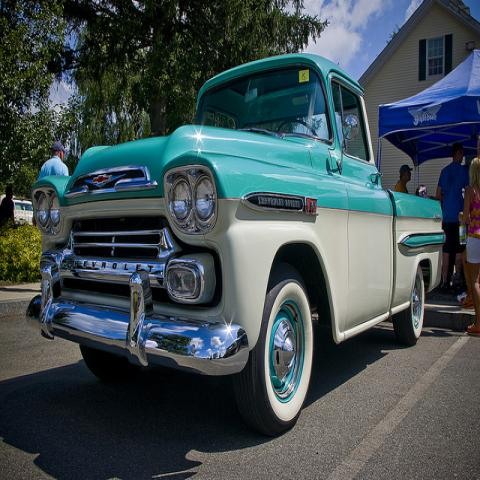truck: (26, 51, 446, 433)
